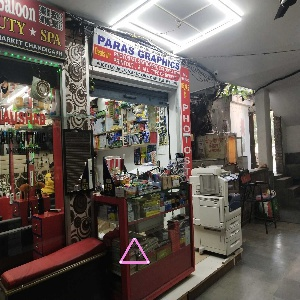triangle: (117, 234, 153, 268)
